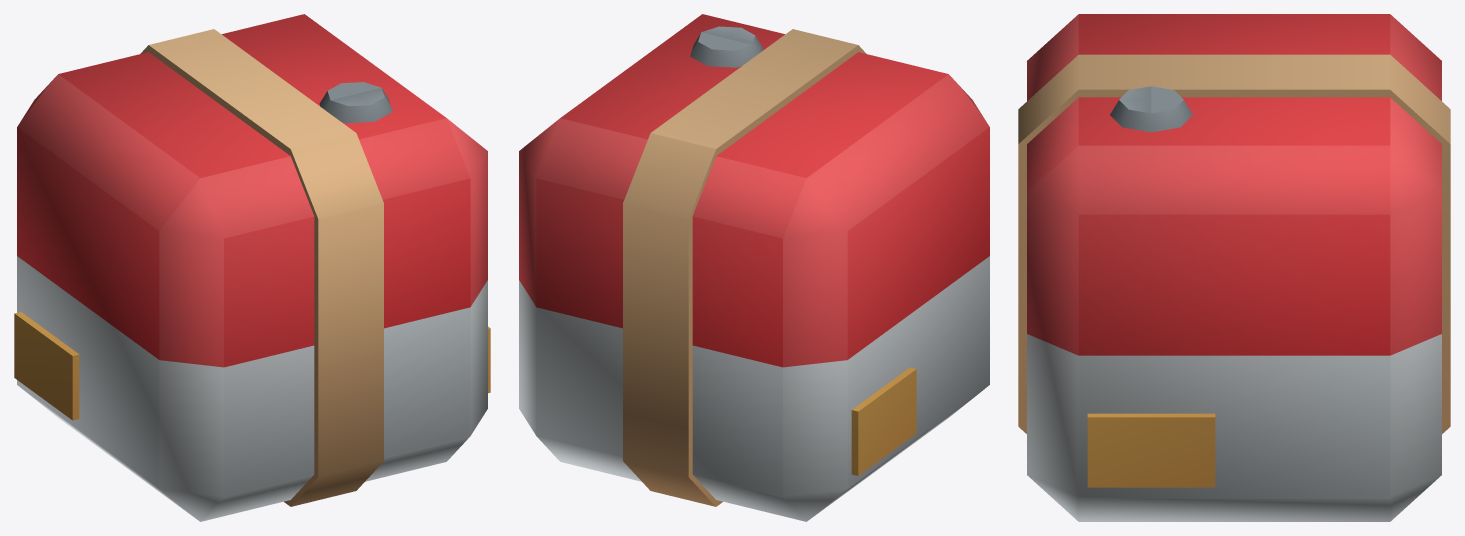
The model's file is cargo_A_packed.glb.
3 views of the same model, side by side, from view 1: azimuth 30°, elevation 25°; view 2: azimuth 150°, elevation 25°; view 3: azimuth 270°, elevation 25° (orthographic). The views are drawn at different scales.
Parts seen in each view (by area): view 1: cargo_A_packed; view 2: cargo_A_packed; view 3: cargo_A_packed.
Part boxes in pixels (box(x1,y1,x2,y2)): cargo_A_packed: box(14, 14, 490, 521); cargo_A_packed: box(519, 14, 989, 521); cargo_A_packed: box(1018, 14, 1450, 521).
Size of the model in its own units: 0.5205 by 0.5303 by 0.5205.
1 material, 1 textured.
